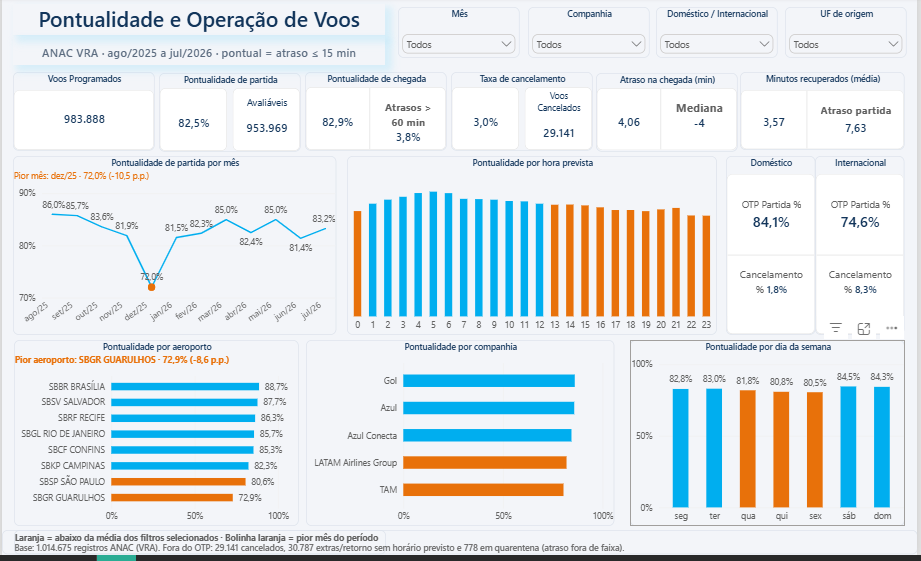

This screenshot's page, from the dashboard's own definition file:
{"tool":"powerbi","page":{"name":"Visão Operacional","canvas":[1280,780],"ordinal":0},"visuals":[{"type":"textbox","title":"Pontualidade e Operação de Voos","box":[16,10,520.5,44],"z":0},{"type":"cardVisual","title":"Voos Programados","fields":{"Data":["fato_voos.Voos Programados Texto"]},"box":[16,105,198.1,110],"z":1000},{"type":"cardVisual","title":"Minutos recuperados (média)","fields":{"Data":["fato_voos.Minutos Recuperados Médio"]},"box":[1031.9,105,230,109],"z":2000},{"type":"cardVisual","title":"Pontualidade de partida","fields":{"Data":["fato_voos.OTP Partida %","fato_voos.Voos Avaliáveis Texto"]},"box":[219.8,105.5,198,110],"z":3000},{"type":"cardVisual","title":"Pontualidade de chegada","fields":{"Data":["fato_voos.OTP Chegada %"]},"box":[424,105,198,110],"z":4000},{"type":"cardVisual","title":"Taxa de cancelamento","fields":{"Data":["fato_voos.Cancelamento %","fato_voos.Voos Cancelados Texto"]},"box":[628,105,198,110],"z":5000},{"type":"slicer","title":"Doméstico / Internacional","fields":{"Values":["fato_voos.escopo_voo"]},"box":[914.3,14.6,169.9,71.2],"z":6000},{"type":"slicer","title":"UF de origem","fields":{"Values":["dim_aeroporto_origem.origem_uf_aeroporto"]},"box":[1093.9,14.6,169.9,71.2],"z":7000},{"type":"slicer","title":"Companhia","fields":{"Values":["fato_voos.nome_companhia"]},"box":[734.7,14.6,169.9,71.2],"z":8000},{"type":"slicer","title":"Mês","fields":{"Values":["dim_calendario.MesAno"]},"box":[553.4,14.6,169.9,71.2],"z":9000},{"type":"textbox","title":"ANAC VRA · ago/2025 a jul/2026 · pontual = atraso ≤ 15 min","box":[16,54,520.5,40],"z":10000},{"type":"lineChart","title":"Pontualidade de partida por mês","fields":{"Category":["dim_calendario.MesAno"],"Y":["fato_voos.OTP Partida %","fato_voos.OTP Partida Pior Mês"]},"box":[16,222.3,451.5,250.2],"z":11000},{"type":"columnChart","title":"Pontualidade por hora prevista","fields":{"Category":["fato_voos.hora_partida_prevista"],"Y":["fato_voos.OTP Partida %"]},"box":[482.3,222.3,517.2,250.2],"z":12000},{"type":"clusteredBarChart","title":"Pontualidade por companhia","fields":{"Category":["fato_voos.Companhia"],"Y":["fato_voos.OTP Partida %"]},"box":[424.9,480,430.5,260],"z":13000},{"type":"barChart","title":"Pontualidade por aeroporto","fields":{"Category":["dim_aeroporto_origem.Aeroporto"],"Y":["fato_voos.OTP Partida %"]},"box":[16.8,479.5,398.4,260],"z":14000},{"type":"cardVisual","title":"Doméstico","fields":{"Data":["fato_voos.OTP Partida %"]},"box":[1012,222.3,125,250],"z":15000},{"type":"cardVisual","title":"Internacional","fields":{"Data":["fato_voos.OTP Partida %"]},"box":[1136.5,222.3,125,250],"z":16000},{"type":"columnChart","title":"Pontualidade por dia da semana","fields":{"Category":["dim_calendario.DiaSemana"],"Y":["fato_voos.OTP Partida %"]},"box":[877.8,479.5,384.4,260],"z":17000},{"type":"cardVisual","title":"Atraso na chegada (min)","fields":{"Data":["fato_voos.Atraso Médio Chegada (min)"]},"box":[829.9,105.5,198.1,109.9],"z":18000},{"type":"textbox","box":[16.8,745.1,520,33.5],"z":19000},{"type":"cardVisual","fields":{"Data":["fato_voos.Nota Rodapé"]},"box":[0,745.1,1280.3,34.1],"z":20000}]}

Visuals, with their boxes in screenshot pixels (x1, y1, x2, y2), scaled from the page's 1280x780 canvas onto the 921x561 screenshot:
"Pontualidade e Operação de Voos" textbox: {"left": 12, "top": 7, "right": 386, "bottom": 39}
"Voos Programados" cardVisual: {"left": 12, "top": 76, "right": 154, "bottom": 155}
"Minutos recuperados (média)" cardVisual: {"left": 742, "top": 76, "right": 908, "bottom": 154}
"Pontualidade de partida" cardVisual: {"left": 158, "top": 76, "right": 301, "bottom": 155}
"Pontualidade de chegada" cardVisual: {"left": 305, "top": 76, "right": 448, "bottom": 155}
"Taxa de cancelamento" cardVisual: {"left": 452, "top": 76, "right": 594, "bottom": 155}
"Doméstico / Internacional" slicer: {"left": 658, "top": 11, "right": 780, "bottom": 62}
"UF de origem" slicer: {"left": 787, "top": 11, "right": 909, "bottom": 62}
"Companhia" slicer: {"left": 529, "top": 11, "right": 651, "bottom": 62}
"Mês" slicer: {"left": 398, "top": 11, "right": 520, "bottom": 62}
"ANAC VRA · ago/2025 a jul/2026 · pontual = atraso ≤ 15 min" textbox: {"left": 12, "top": 39, "right": 386, "bottom": 68}
"Pontualidade de partida por mês" lineChart: {"left": 12, "top": 160, "right": 336, "bottom": 340}
"Pontualidade por hora prevista" columnChart: {"left": 347, "top": 160, "right": 719, "bottom": 340}
"Pontualidade por companhia" clusteredBarChart: {"left": 306, "top": 345, "right": 615, "bottom": 532}
"Pontualidade por aeroporto" barChart: {"left": 12, "top": 345, "right": 299, "bottom": 532}
"Doméstico" cardVisual: {"left": 728, "top": 160, "right": 818, "bottom": 340}
"Internacional" cardVisual: {"left": 818, "top": 160, "right": 908, "bottom": 340}
"Pontualidade por dia da semana" columnChart: {"left": 632, "top": 345, "right": 908, "bottom": 532}
"Atraso na chegada (min)" cardVisual: {"left": 597, "top": 76, "right": 740, "bottom": 155}
textbox: {"left": 12, "top": 536, "right": 386, "bottom": 560}
cardVisual - fato_voos.Nota Rodapé: {"left": 0, "top": 536, "right": 920, "bottom": 560}
